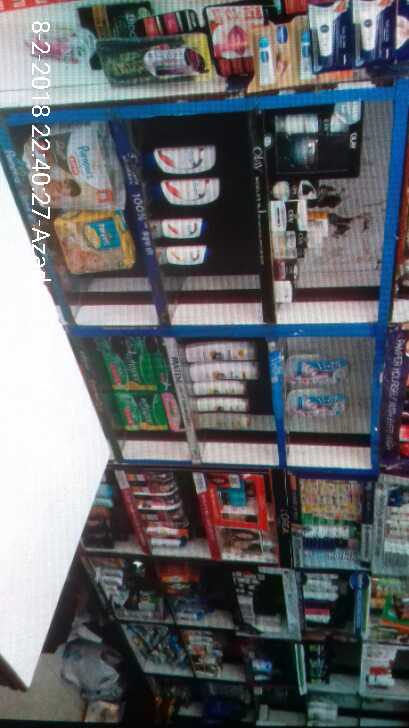venus: (289, 389, 349, 418), (285, 356, 351, 382)
